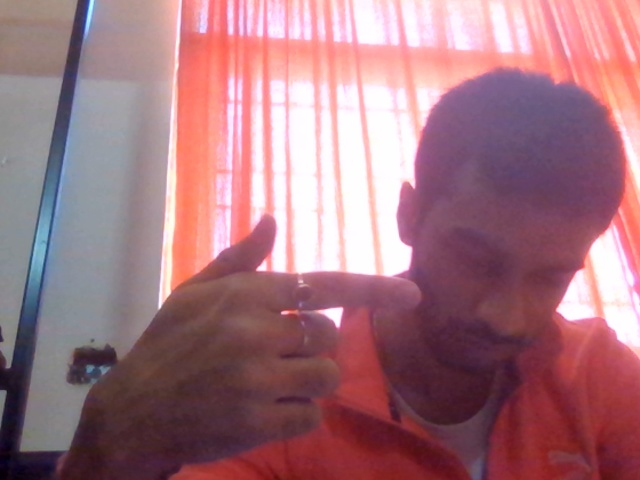G: (52, 214, 449, 480)
